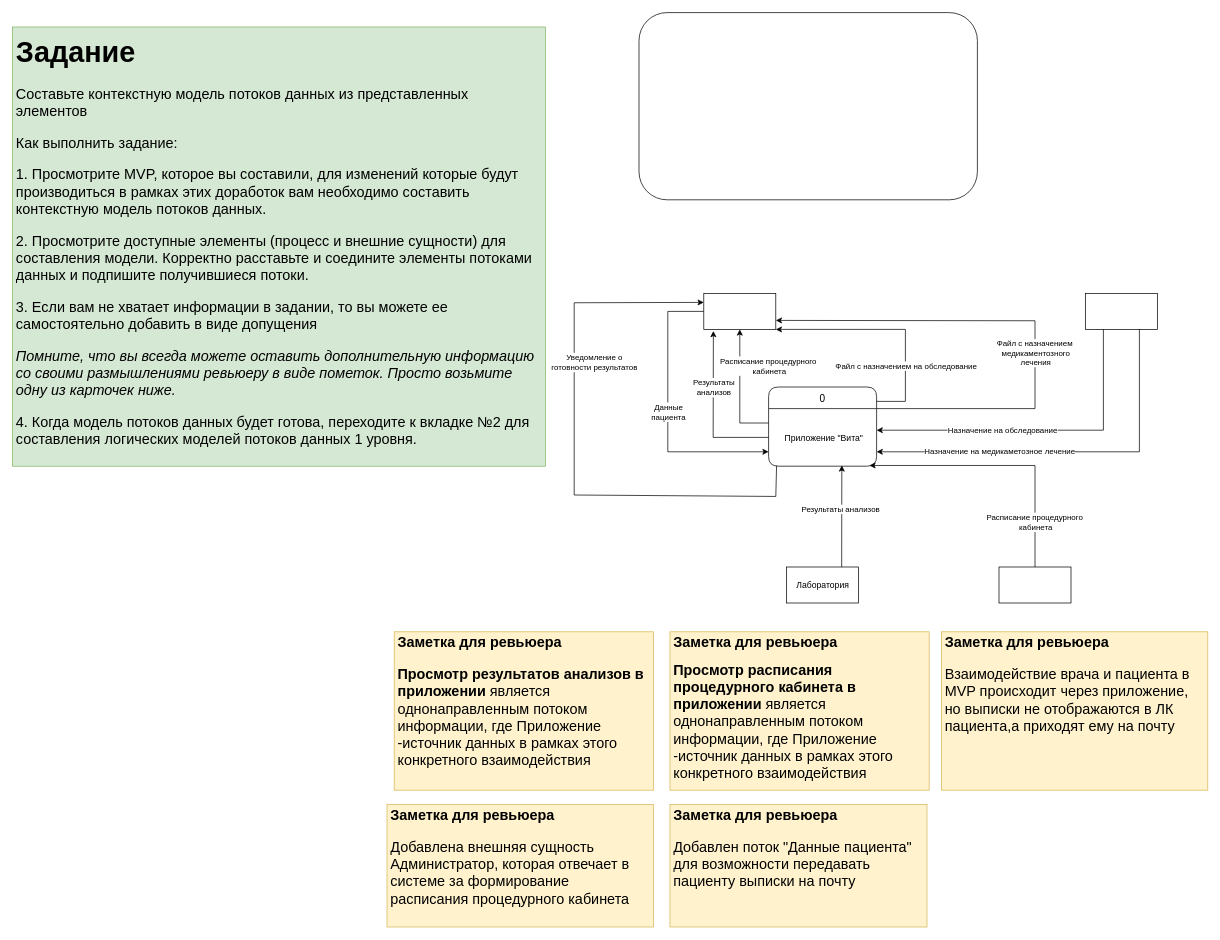
Image size: 1220x940. Some labels were removed from this diagram. Here are the shapes that lost their labels. From the top down, the box of each, then its label:
(638, 12, 977, 200): Элементы для построения контекстной модели потоков данных
(703, 293, 776, 329): Пациент
(1085, 293, 1157, 329): Врач
(998, 566, 1071, 603): Администратор
